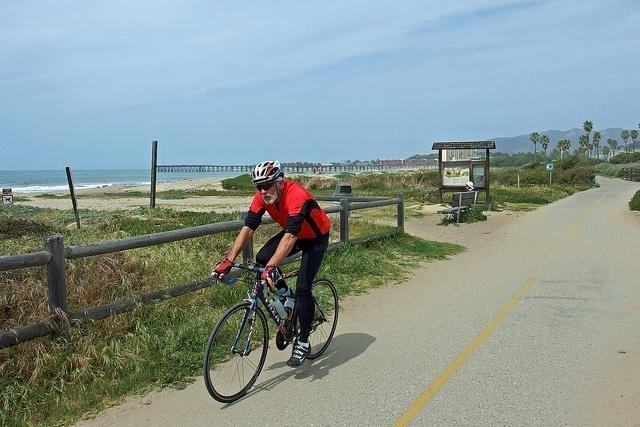bicycle: (204, 264, 343, 402)
